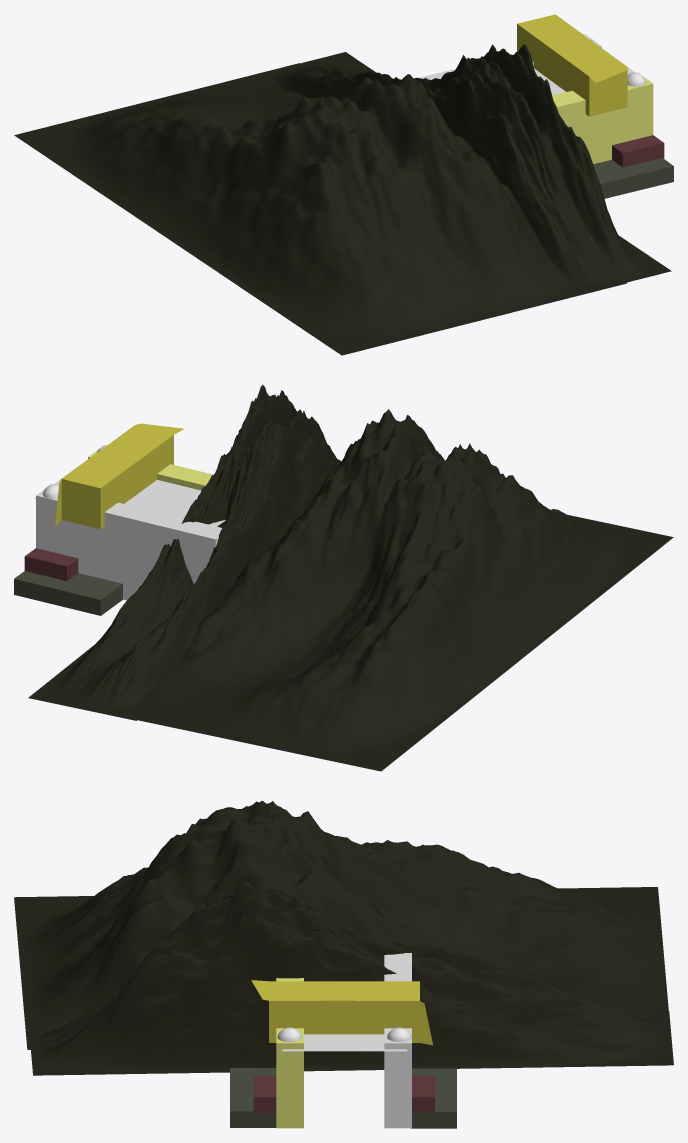
The model's file is cueva.fbx.
3 renders of one model, top to bottom at view 1: azimuth 30°, elevation 25°; view 2: azimuth 150°, elevation 25°; view 3: azimuth 270°, elevation 25°, orthographic. The views are drawn at different scales.
Parts seen in each view (by area): view 1: Landscape.001, Landscape.003, Concreto_Techo2, Cube.002, Cubo, Concreto_Techo1, Cubo.002; view 2: Landscape.001, Landscape.003, Cube.001, Concreto_Techo1, Cubo.001, Concreto_Techo2, Plano_Techo, Cubo.003, Cube.002; view 3: Landscape.001, Landscape.003, Concreto_Techo2, Concreto_Techo1, Cube.001, Cube.002, Cubo, Cubo.001, Plano_Techo, Cubo.002, Cubo.003, MetaBola.
Part boxes in pixels (x1,y1,x2,y2): Landscape.001: [14, 63, 626, 355]; Landscape.003: [274, 44, 671, 285]; Concreto_Techo2: [547, 37, 627, 116]; Cube.002: [552, 76, 653, 163]; Cubo: [593, 158, 673, 198]; Concreto_Techo1: [517, 14, 585, 77]; Cubo.002: [612, 135, 664, 167]; Landscape.001: [78, 409, 673, 771]; Landscape.003: [28, 385, 341, 720]; Cube.001: [36, 489, 222, 600]; Concreto_Techo1: [55, 456, 131, 529]; Cubo.001: [14, 571, 122, 615]; Concreto_Techo2: [93, 423, 184, 497]; Plano_Techo: [34, 459, 225, 526]; Cubo.003: [24, 548, 78, 580]; Cube.002: [88, 449, 213, 490]; Landscape.001: [14, 800, 671, 1049]; Landscape.003: [31, 881, 673, 1075]; Concreto_Techo2: [251, 980, 355, 1042]; Concreto_Techo1: [355, 981, 432, 1045]; Cube.001: [384, 953, 411, 1128]; Cube.002: [276, 978, 303, 1128]; Cubo: [230, 1068, 276, 1127]; Cubo.001: [411, 1068, 456, 1128]; Plano_Techo: [282, 1034, 407, 1051]; Cubo.002: [253, 1076, 276, 1113]; Cubo.003: [412, 1075, 434, 1111]; MetaBola: [277, 1027, 411, 1041].
Size of the model in its own units: 2399 by 840 by 2842.
